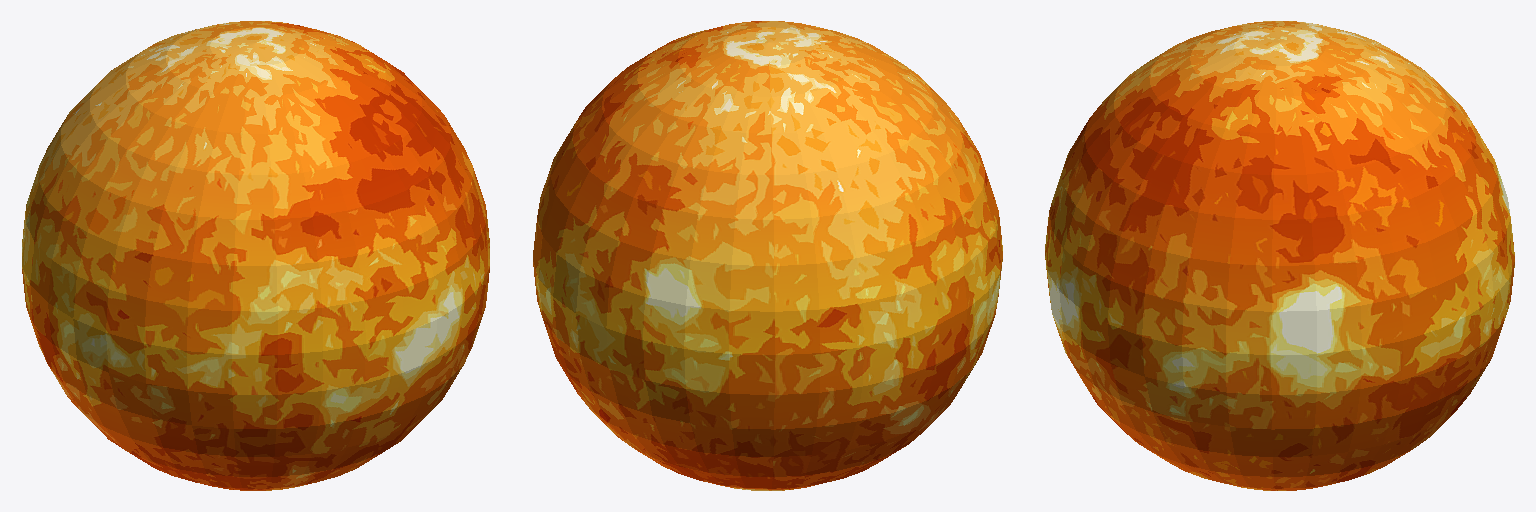
The picture shows the model from 3 angles: view 1: azimuth 30°, elevation 25°; view 2: azimuth 150°, elevation 25°; view 3: azimuth 270°, elevation 25°; orthographic projection.
Visible parts, largest first — view 1: Sun; view 2: Sun; view 3: Sun.
Boxes of the visible parts, box(x1,y1,x2,y2) form: Sun: box(22, 21, 489, 490); Sun: box(533, 21, 1002, 490); Sun: box(1045, 21, 1514, 490).
Size of the model in its own units: 8.85 by 8.85 by 8.85.
Materials: 1 (1 with a texture image).